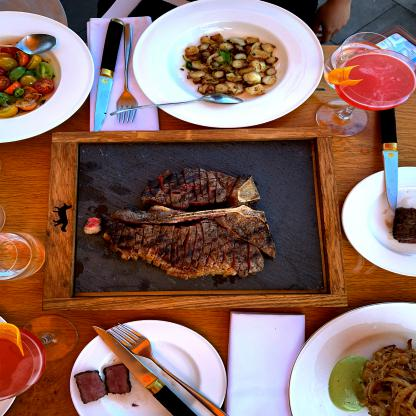Carne: (101, 221, 279, 279), (142, 160, 262, 206)
